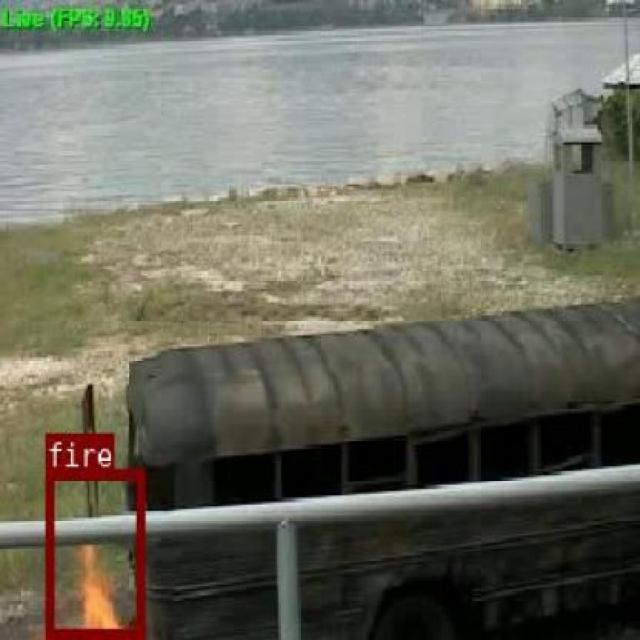fire: (44, 468, 142, 636)
